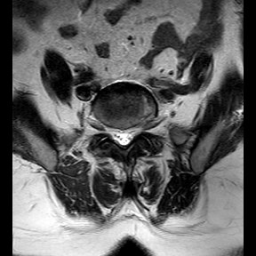CCS_normal: (120, 118, 127, 155)
LFS_normal: (134, 115, 142, 144)
LLS_normal: (127, 119, 134, 148)
RFS_normal: (103, 115, 112, 143)
RLS_normal: (112, 119, 120, 150)
